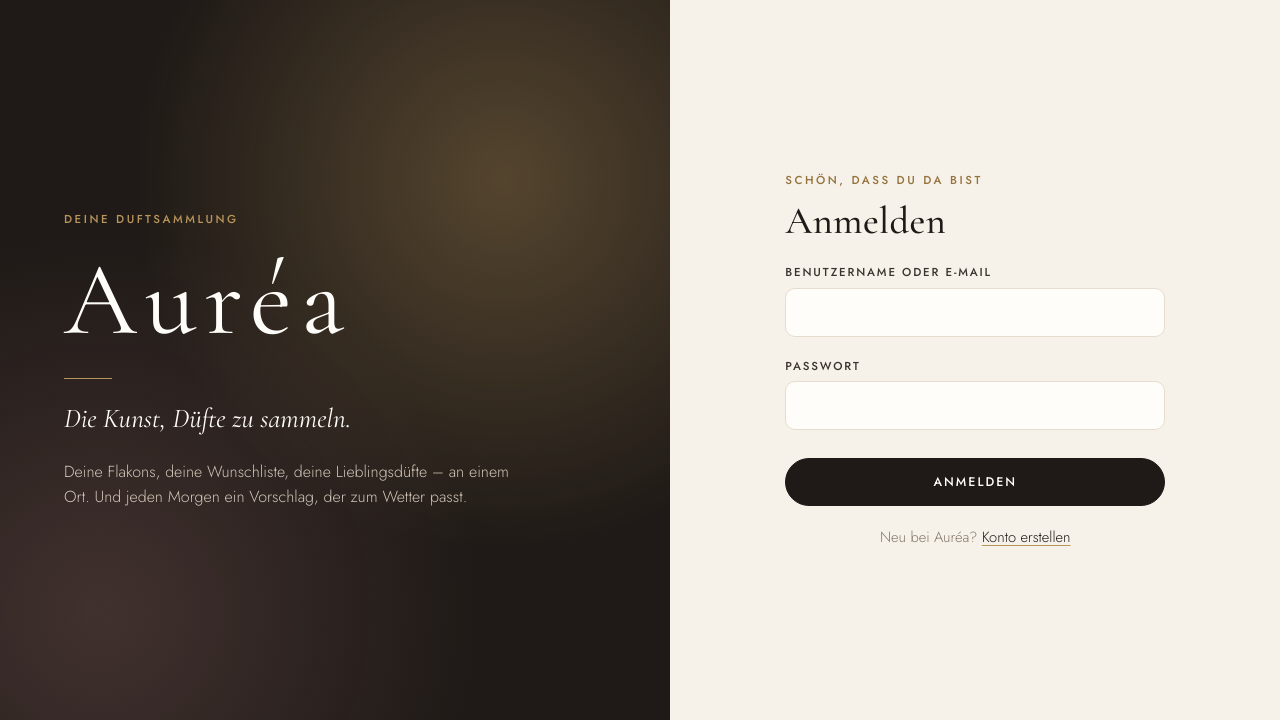
Scenario: LoginView › wechselt in den Registrierungsmodus
Click the button "Konto erstellen" at (1026, 538), box top-left (982, 526), bottom-right (1070, 549)
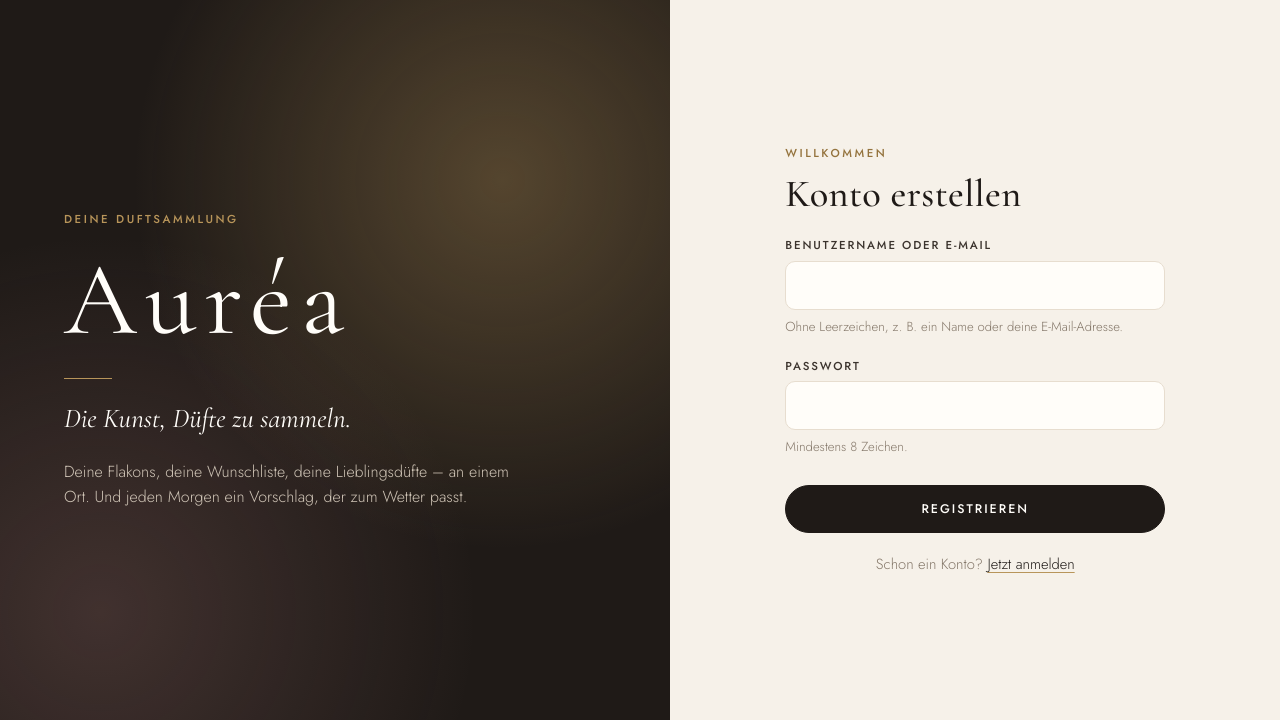
Check: the heading "Konto erstellen" is shown, box top-left (785, 171), bottom-right (1022, 217)
